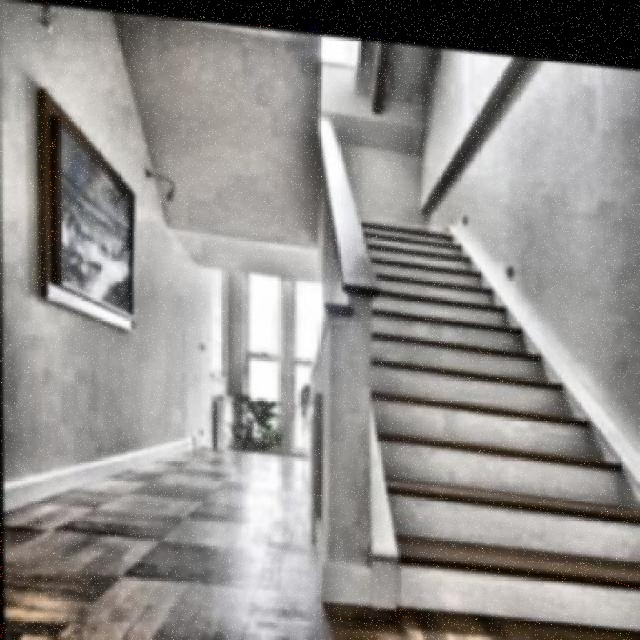stair: (323, 152, 639, 569)
